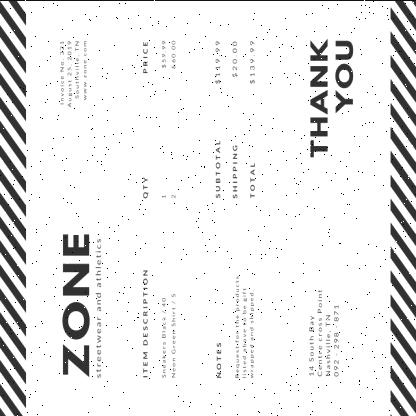Paragraph: (211, 35, 260, 204), (58, 228, 104, 382), (304, 32, 358, 162), (214, 272, 258, 382), (304, 284, 342, 382), (56, 34, 91, 112)
Table: (137, 34, 181, 384)
